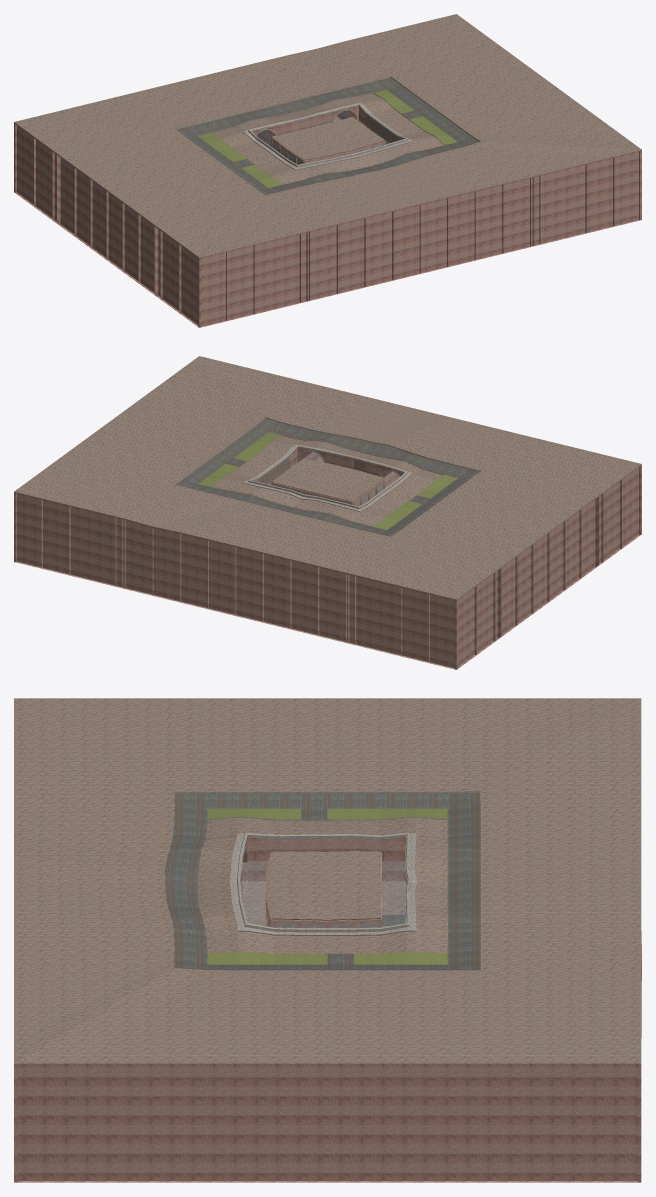
File: townground.fbx
The picture shows the model from 3 angles, top to bottom: view 1: azimuth 30°, elevation 25°; view 2: azimuth 150°, elevation 25°; view 3: azimuth 270°, elevation 25°; orthographic projection. The views are drawn at different scales.
Parts seen in each view (by area): view 1: Plane; view 2: Plane; view 3: Plane, Plane.001.
Part boxes in pixels (x1,y1,x2,y2): Plane: (14,14,641,327); Plane: (14,356,641,669); Plane: (14,698,641,1182); Plane.001: (241,862,405,926).
Size of the model in its own units: 15781 by 2463 by 11461.
6 materials, 6 textured.
